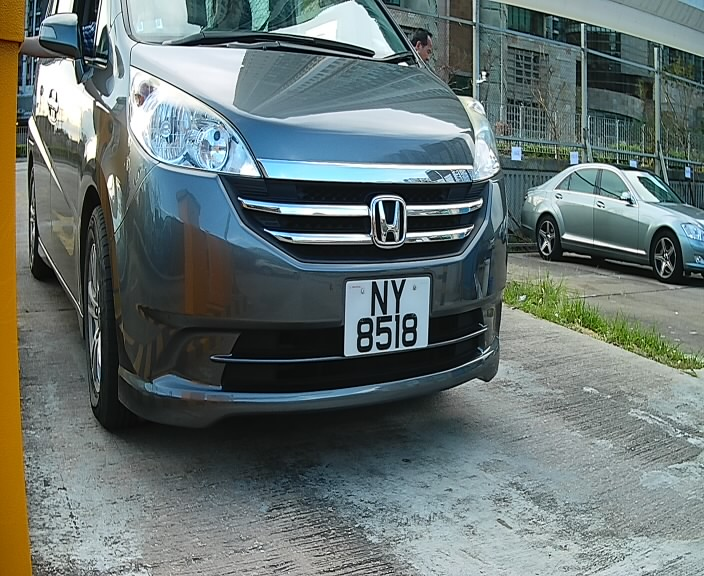Car: (17, 2, 517, 458)
License Plate: (338, 270, 440, 363)
